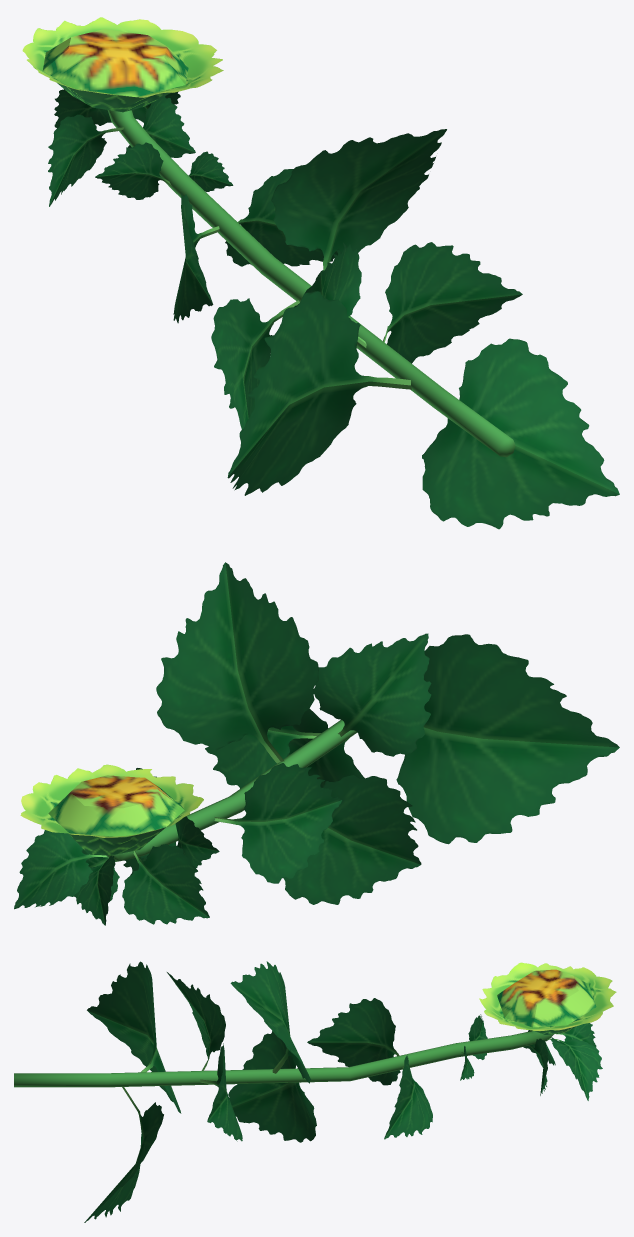
Rendered from SM_Sunflower_Closed.fbx.
3 renders of one model, top to bottom at view 1: azimuth 30°, elevation 25°; view 2: azimuth 150°, elevation 25°; view 3: azimuth 270°, elevation 25°, orthographic. The views are drawn at different scales.
Parts seen in each view (by area): view 1: Sunflower_Closed; view 2: Sunflower_Closed; view 3: Sunflower_Closed.
Part boxes in pixels (box(x1,y1,x2,y2)): Sunflower_Closed: box(22, 17, 619, 529); Sunflower_Closed: box(14, 562, 619, 925); Sunflower_Closed: box(14, 961, 616, 1222).
Size of the model in its own units: 153 by 126 by 291.
